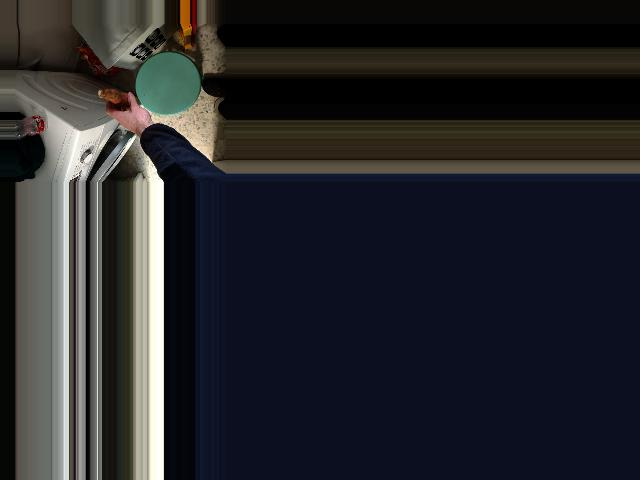sweet_potato: (98, 89, 150, 118)
